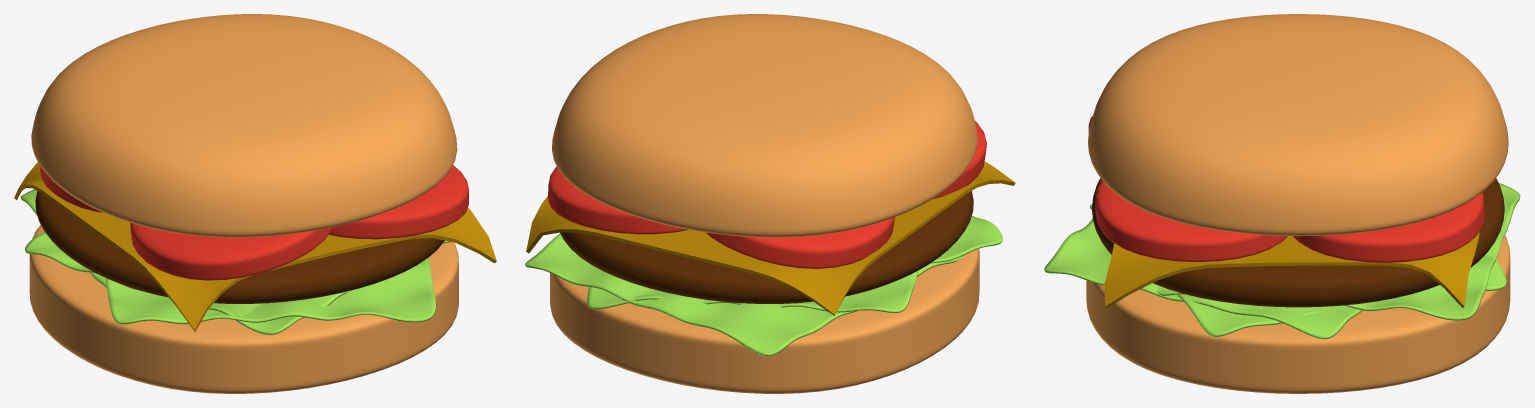
File: hamburger2.glb
3 renders of one model, left to right at view 1: azimuth 30°, elevation 25°; view 2: azimuth 150°, elevation 25°; view 3: azimuth 270°, elevation 25°, orthographic.
Visible parts, largest first — view 1: Top Bun, Bottom Bun, Meat, Lettuce.001, Cheese, Tomatoe.001, Tomatoe, Lettuce, Tomatoe.003; view 2: Top Bun, Bottom Bun, Meat, Cheese, Lettuce.002, Tomatoe.003, Tomatoe.002, Lettuce, Lettuce.001, Tomatoe.001; view 3: Top Bun, Bottom Bun, Meat, Cheese, Tomatoe, Tomatoe.002, Lettuce.001, Lettuce.002, Lettuce.
Part boxes in pixels (x1,y1,x2,y2): Top Bun: [31, 14, 457, 237]; Bottom Bun: [29, 225, 458, 393]; Meat: [35, 191, 444, 303]; Lettuce.001: [105, 259, 436, 324]; Cheese: [14, 162, 496, 331]; Tomatoe.001: [130, 222, 332, 280]; Tomatoe: [329, 165, 468, 239]; Lettuce: [25, 232, 451, 334]; Tomatoe.003: [39, 165, 102, 212]; Top Bun: [552, 14, 977, 237]; Bottom Bun: [550, 233, 979, 393]; Meat: [560, 191, 973, 303]; Cheese: [526, 161, 1015, 315]; Lettuce.002: [525, 233, 964, 356]; Tomatoe.003: [705, 217, 894, 268]; Tomatoe.002: [547, 166, 688, 234]; Lettuce: [587, 270, 918, 313]; Lettuce.001: [931, 215, 1002, 263]; Tomatoe.001: [932, 121, 986, 199]; Top Bun: [1088, 14, 1508, 236]; Bottom Bun: [1086, 235, 1510, 393]; Meat: [1092, 178, 1504, 307]; Cheese: [1104, 231, 1479, 308]; Tomatoe: [1095, 180, 1287, 261]; Tomatoe.002: [1293, 192, 1485, 262]; Lettuce.001: [1044, 218, 1362, 339]; Lettuce.002: [1157, 183, 1520, 320]; Lettuce: [1090, 204, 1506, 336].
Bounding box in the file's own units: 9.03 × 5.72 × 10.13.
